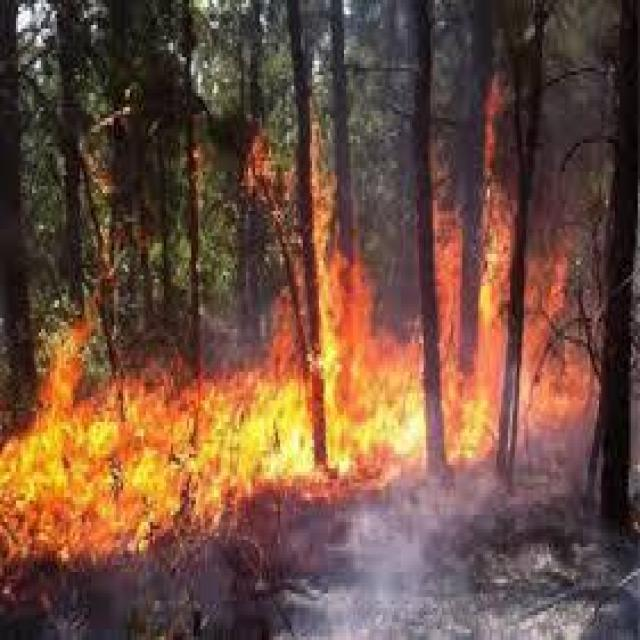Fire: (0, 61, 599, 554)
Smoke: (274, 448, 521, 638)
